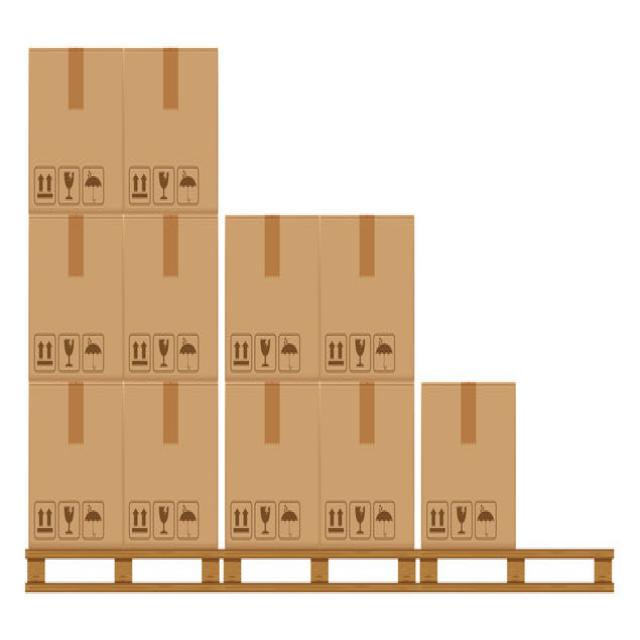cardboxes: (28, 212, 125, 383), (320, 379, 416, 549), (224, 213, 321, 381), (224, 382, 321, 549), (124, 378, 219, 548), (28, 46, 124, 214), (421, 381, 516, 550), (28, 383, 124, 548), (125, 212, 219, 380), (322, 214, 416, 380), (125, 48, 219, 212)
